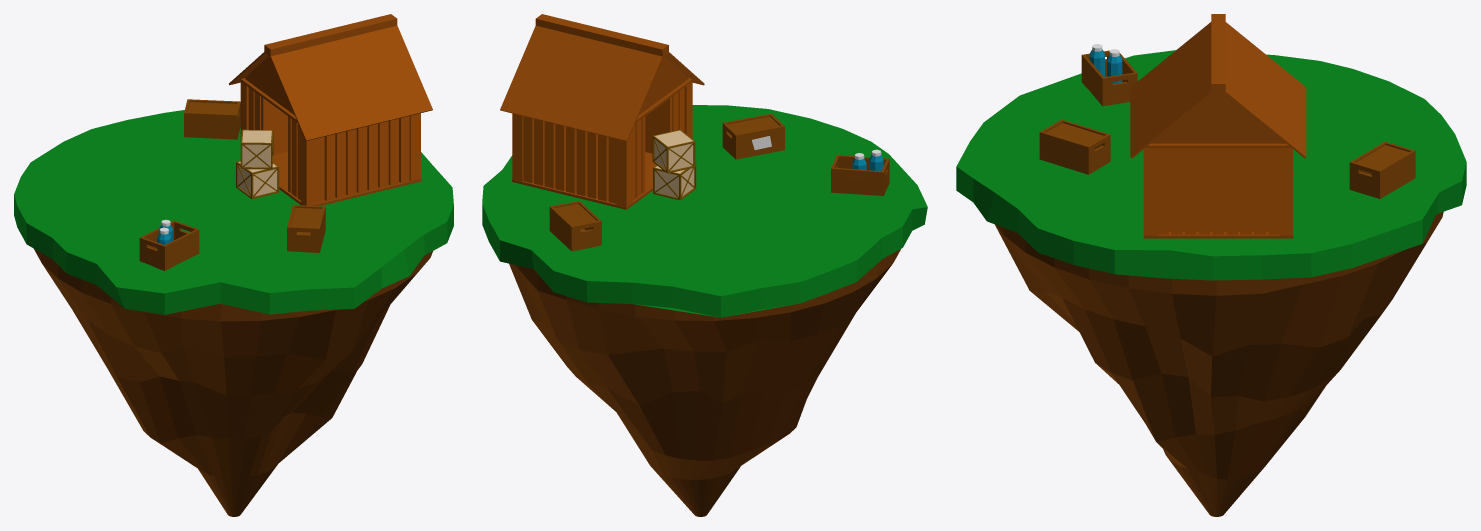
The model's file is cabin_island.glb.
The picture shows the model from 3 angles, left to right: view 1: azimuth 30°, elevation 25°; view 2: azimuth 150°, elevation 25°; view 3: azimuth 270°, elevation 25°; orthographic projection. The views are drawn at different scales.
Visible parts, largest first — view 1: grass, soil.001, roof, cabin, closed_filing_box_1, open_filing_box, closed_filing_box_3, crate_2, floor, crate_1, guard.002, guard.001; view 2: grass, soil.001, roof, cabin, closed_filing_box_3, closed_filing_box_1, open_filing_box, crate_2, floor, crate_1, guard.001, guard.002; view 3: grass, soil.001, roof, cabin, closed_filing_box_3, closed_filing_box_1, open_filing_box, floor.
Part boxes in pixels (left/top/right/bottom): grass: left=14, top=110, right=453, bottom=314; soil.001: left=34, top=249, right=432, bottom=516; roof: left=229, top=14, right=432, bottom=140; cabin: left=240, top=81, right=420, bottom=205; closed_filing_box_1: left=184, top=99, right=240, bottom=139; open_filing_box: left=139, top=220, right=199, bottom=270; closed_filing_box_3: left=287, top=205, right=325, bottom=252; crate_2: left=242, top=130, right=271, bottom=167; floor: left=273, top=152, right=420, bottom=206; crate_1: left=238, top=161, right=277, bottom=196; guard.002: left=236, top=161, right=279, bottom=199; guard.001: left=240, top=129, right=273, bottom=169; grass: left=482, top=105, right=927, bottom=317; soil.001: left=509, top=249, right=900, bottom=516; roof: left=500, top=14, right=704, bottom=141; cabin: left=512, top=81, right=692, bottom=207; closed_filing_box_3: left=722, top=113, right=784, bottom=159; closed_filing_box_1: left=549, top=200, right=601, bottom=251; open_filing_box: left=831, top=155, right=889, bottom=195; crate_2: left=654, top=130, right=693, bottom=170; floor: left=512, top=152, right=656, bottom=209; crate_1: left=655, top=166, right=694, bottom=197; guard.001: left=652, top=129, right=695, bottom=173; guard.002: left=653, top=163, right=696, bottom=200; grass: left=956, top=50, right=1466, bottom=280; soil.001: left=995, top=212, right=1443, bottom=516; roof: left=1130, top=14, right=1306, bottom=158; cabin: left=1143, top=148, right=1292, bottom=235; closed_filing_box_3: left=1039, top=119, right=1110, bottom=174; closed_filing_box_1: left=1349, top=141, right=1415, bottom=198; open_filing_box: left=1081, top=50, right=1137, bottom=106; floor: left=1143, top=173, right=1293, bottom=238.
Size of the model in its own units: 14.09 by 16.66 by 14.85.
